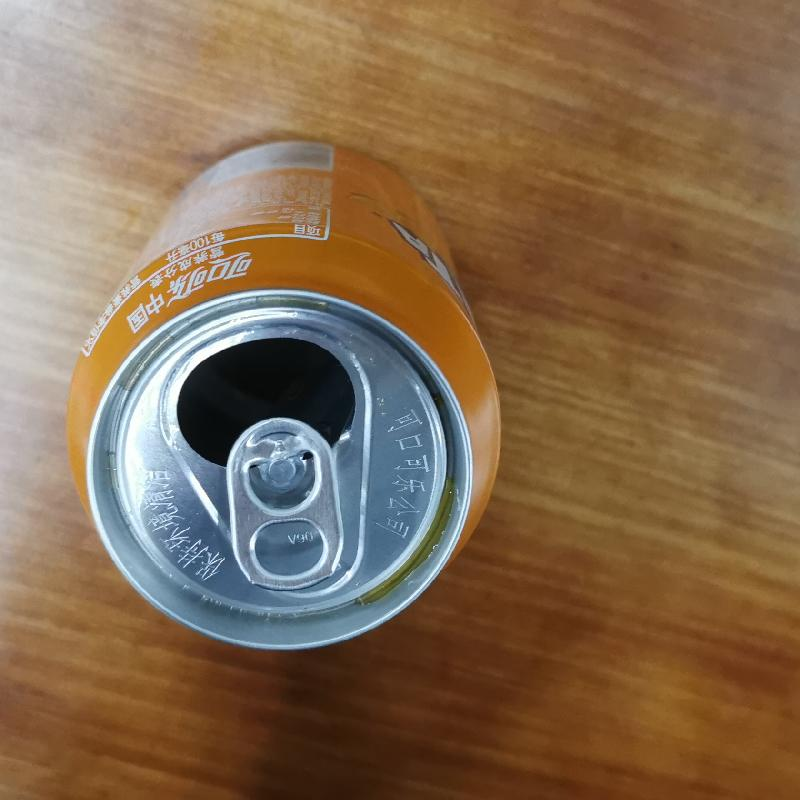cans: (55, 135, 521, 661)
